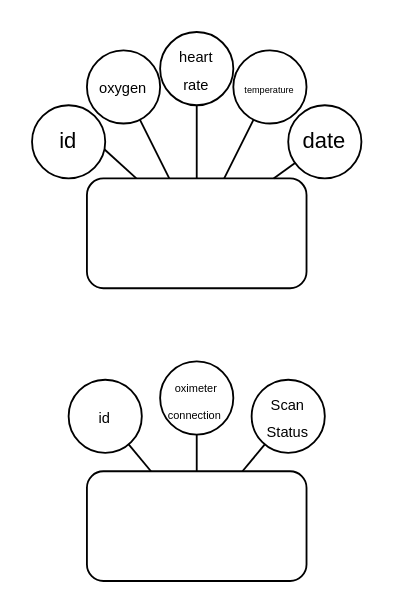
Some shapes in this 393 by 613 pixel diagram are drawn without their labels. Each missing label, with the centre of its shape:
"Oximeter Status" goes at point 196,525.
"Records" goes at point 196,232.
